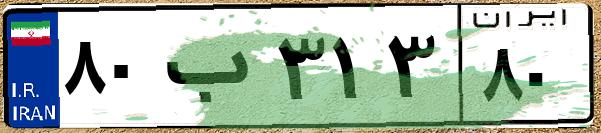0: (525, 38, 570, 115), (110, 28, 158, 98)
1: (330, 28, 385, 110)
3: (270, 28, 330, 110), (385, 28, 445, 110)
8: (57, 26, 110, 100), (475, 38, 525, 113)
ب: (158, 20, 270, 120)
